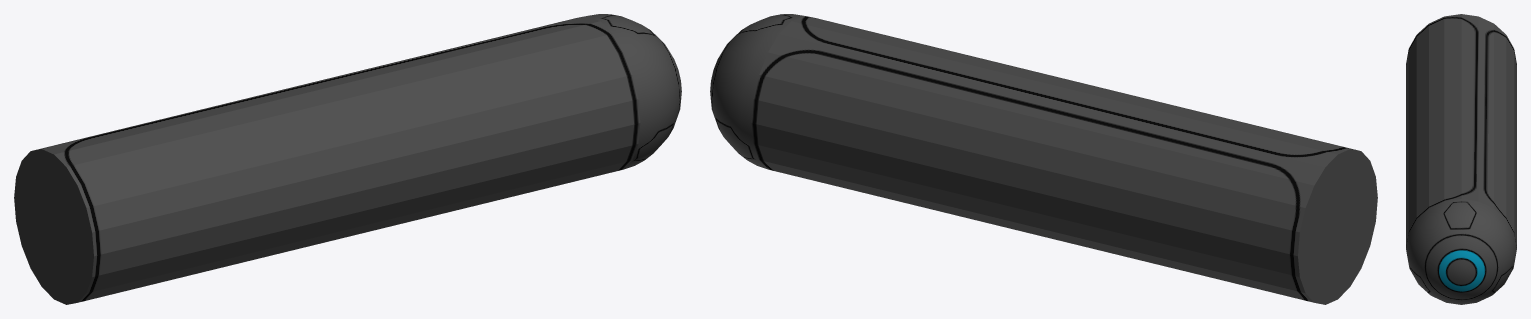
Rendered from MOTOR.fbx.
3 views of the same model, side by side, from view 1: azimuth 30°, elevation 25°; view 2: azimuth 150°, elevation 25°; view 3: azimuth 270°, elevation 25° (orthographic). The views are drawn at different scales.
Visible parts, largest first — view 1: polySurface36; view 2: polySurface36; view 3: polySurface36.
Part boxes in pixels (x1,y1,x2,y2): polySurface36: (14,14,681,304); polySurface36: (710,14,1377,304); polySurface36: (1406,14,1516,304).
Size of the model in its own units: 5.97 by 1.34 by 1.34.
Materials: 1 (1 with a texture image).
